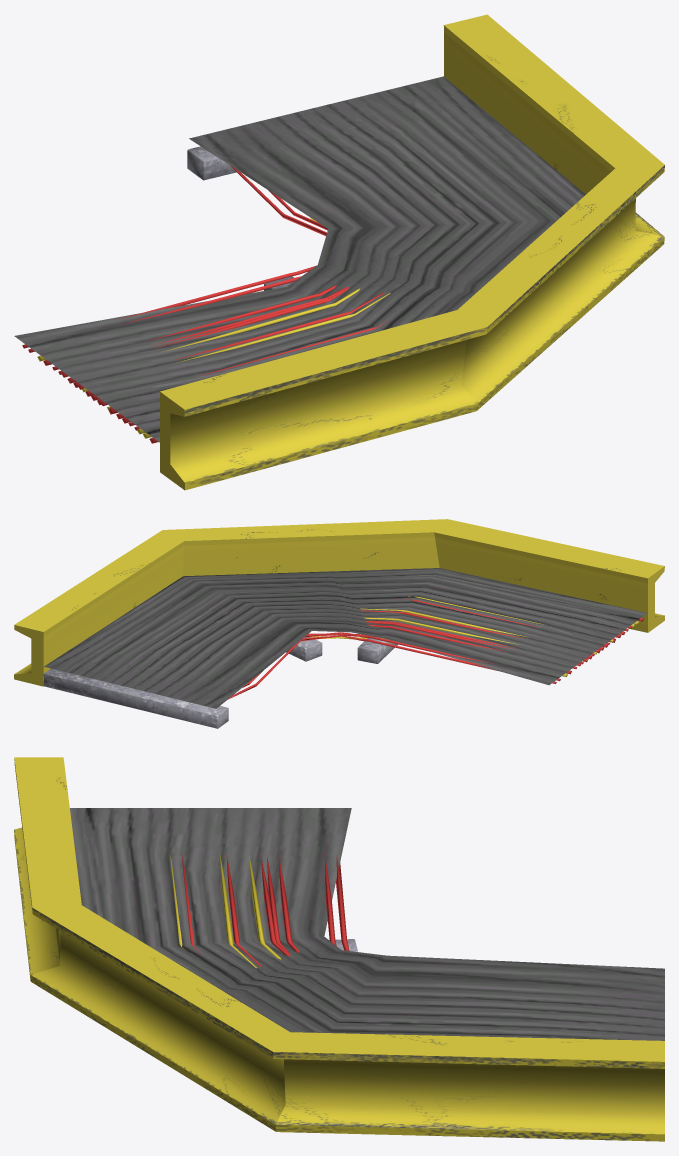
File: mountedCables_corner01.dae
3 views of the same model, one above another, from view 1: azimuth 30°, elevation 25°; view 2: azimuth 150°, elevation 25°; view 3: azimuth 270°, elevation 25° (orthographic). The views are drawn at different scales.
Parts seen in each view (by area): view 1: polySurface85; view 2: polySurface85; view 3: polySurface85.
Part boxes in pixels (bbox=[...]): polySurface85: bbox=[14, 14, 664, 490]; polySurface85: bbox=[14, 519, 664, 728]; polySurface85: bbox=[14, 757, 664, 1141].
Size of the model in its own units: 4.6 by 0.6536 by 4.15.
1 material, 1 textured.
